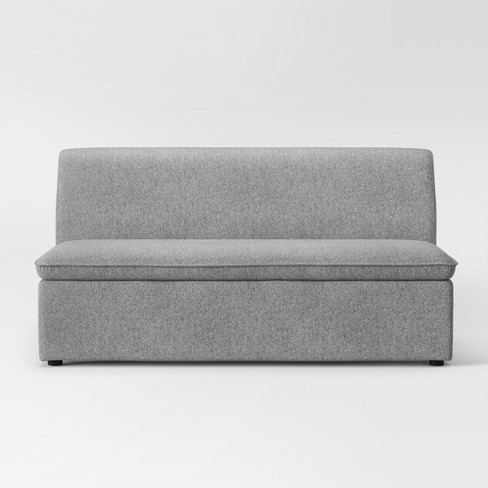chairs: (33, 144, 459, 372)
